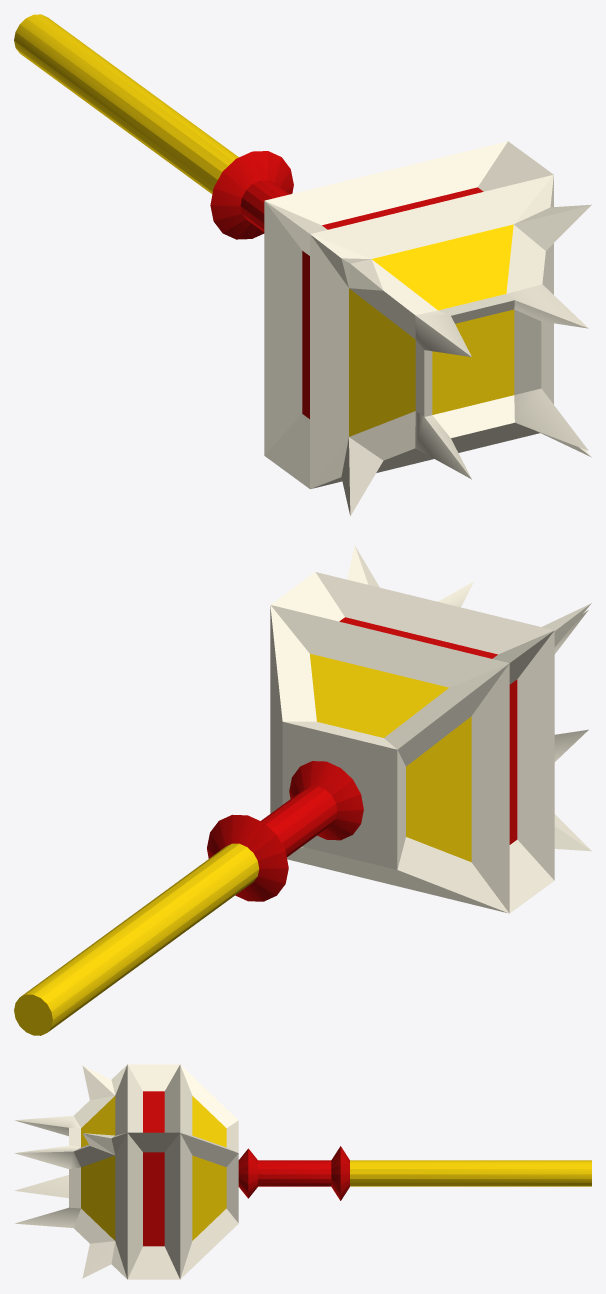
The model's file is hammer.fbx.
3 views of the same model, one above another, from view 1: azimuth 30°, elevation 25°; view 2: azimuth 150°, elevation 25°; view 3: azimuth 270°, elevation 25° (orthographic). The views are drawn at different scales.
Parts seen in each view (by area): view 1: hammer; view 2: hammer; view 3: hammer.
Boxes of the visible parts, <box> form: hammer: <box>14,14,591,515</box>; hammer: <box>14,545,591,1035</box>; hammer: <box>14,1064,591,1279</box>.
Size of the model in its own units: 0.4424 by 0.4424 by 1.58.
1 material, 1 textured.
